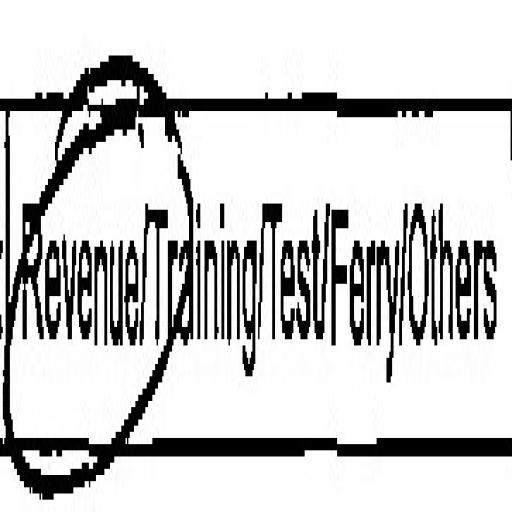check: (6, 0, 144, 512)
